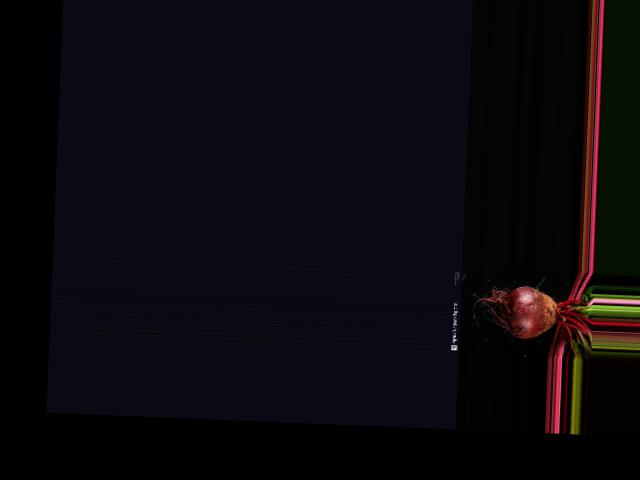beet: (465, 283, 593, 359)
